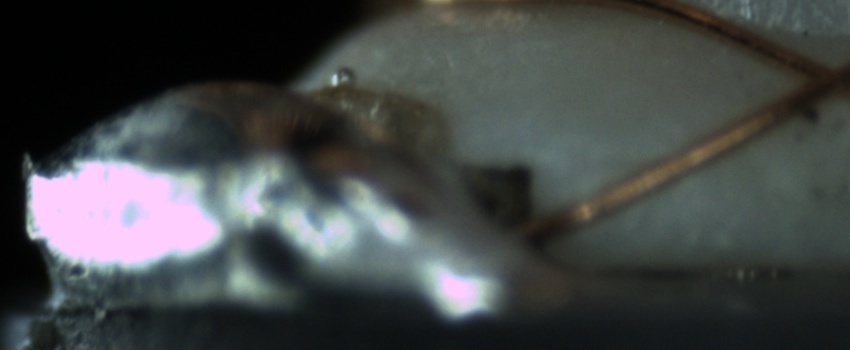CL: (775, 41, 850, 108)
